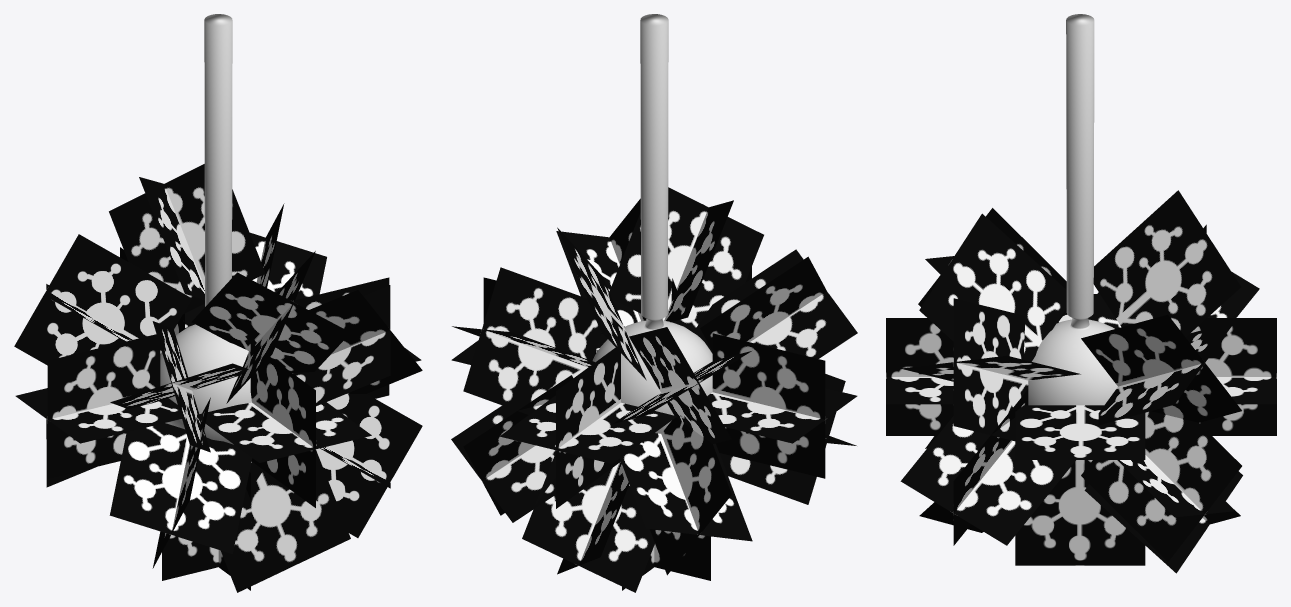
The model's file is FBSpaces_Chandelier.fbx.
3 renders of one model, left to right at view 1: azimuth 30°, elevation 25°; view 2: azimuth 150°, elevation 25°; view 3: azimuth 270°, elevation 25°, orthographic.
Visible parts, largest first — view 1: Chandelie; view 2: Chandelie; view 3: Chandelie.
Boxes of the visible parts, x1,y1,x2,y2 form: Chandelie: (14,14,422,592); Chandelie: (451,14,857,592); Chandelie: (886,14,1276,573).
Size of the model in its own units: 68.2 by 104 by 67.77.
